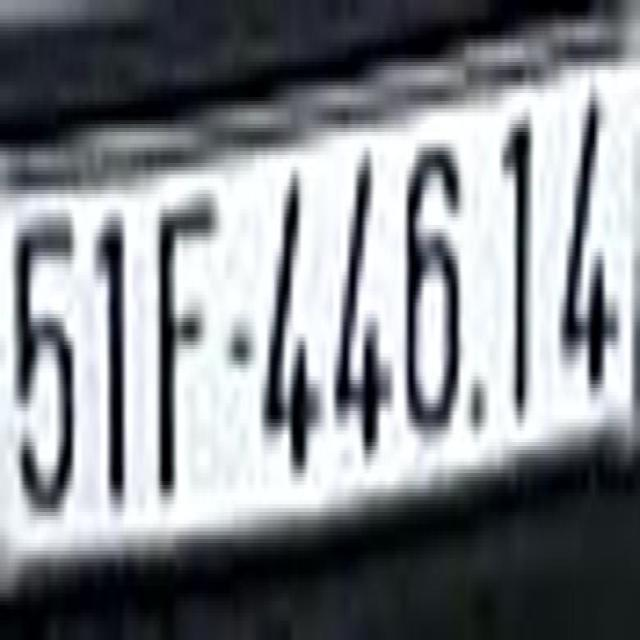1: (94, 198, 130, 508), (499, 106, 533, 424)
4: (559, 82, 620, 411), (260, 159, 320, 485), (333, 138, 391, 467)
5: (13, 198, 78, 520)
6: (403, 122, 461, 448)
F: (156, 180, 220, 502)
